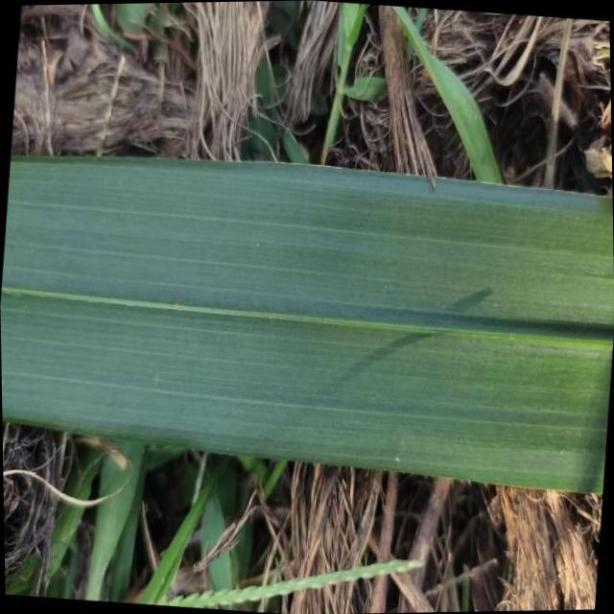Healthy: (0, 158, 614, 500)
